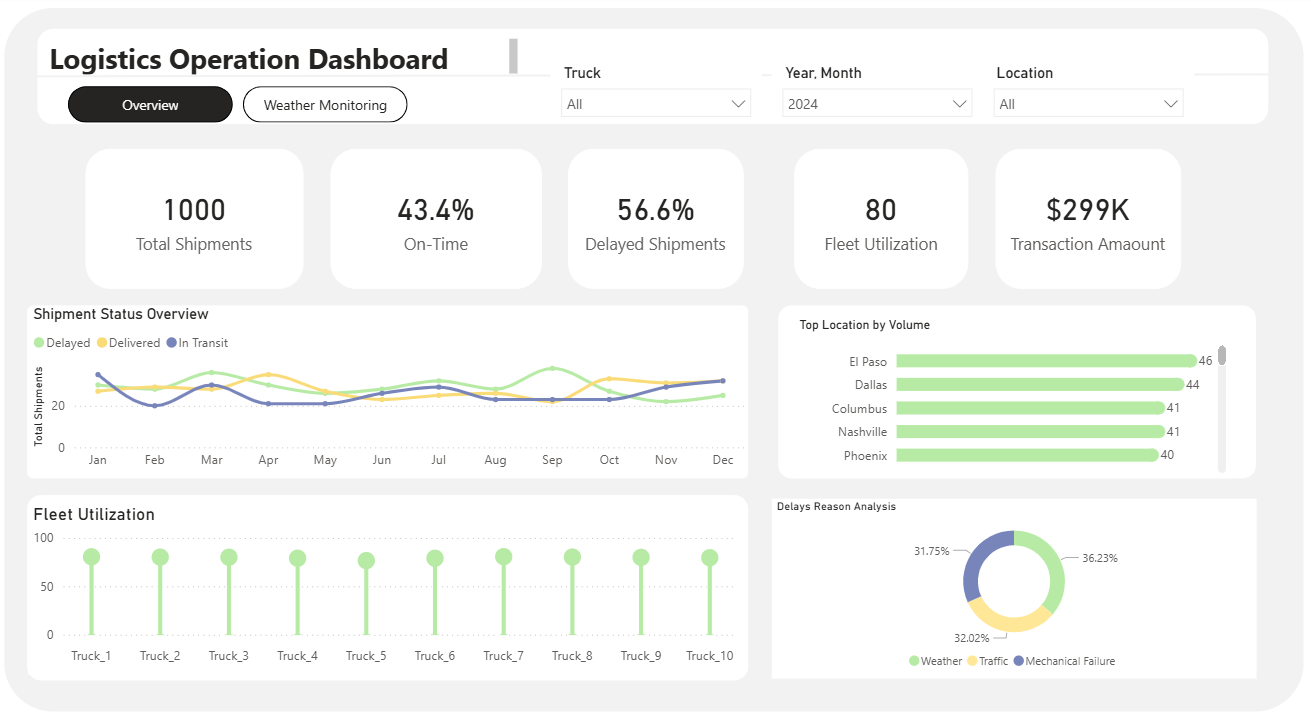

Layout of this report page (visuals, bound fields, positions):
{"tool":"powerbi","page":{"name":"Overview","canvas":[1280,720],"ordinal":0},"visuals":[{"type":"card","fields":{"Values":["_Measures.On-Time%"]},"box":[325.8,147.8,204.3,135.2],"z":0},{"type":"card","fields":{"Values":["_Measures.Total Shipments"]},"box":[89.5,147.8,210.1,135.2],"z":1000},{"type":"card","fields":{"Values":["_Measures.Delayed%"]},"box":[555.4,147.8,169.2,135.2],"z":2000},{"type":"card","fields":{"Values":["_Measures.Avg Utilization"]},"box":[773.3,147.8,168.3,135.2],"z":3000},{"type":"card","fields":{"Values":["_Measures.Transaction Amaount"]},"box":[967.8,147.8,179,135.2],"z":4000},{"type":"slicer","fields":{"Values":["LogisticsData.City"]},"box":[955,62.1,203.9,62.1],"z":5000},{"type":"slicer","fields":{"Values":["LogisticsData.Asset_ID"]},"box":[538.2,62.1,203.9,62.1],"z":6000},{"type":"slicer","fields":{"Values":["Date.Year","Date.Month"]},"box":[751,62.1,203.9,62.1],"z":7000},{"type":"lineChart","title":" Shipment Status Overview ","fields":{"Category":["Date.Month"],"Y":["_Measures.Total Shipments"],"Series":["LogisticsData.ShipmentStatus"]},"box":[33.7,298.8,697.8,167.6],"z":8000},{"type":"lineChart","title":"Fleet Utilization","fields":{"Category":["LogisticsData.Asset_ID"],"Y":["_Measures.Avg Utilization"]},"box":[33.7,491.2,690.7,164.9],"z":9000},{"type":"clusteredBarChart","title":"Top Location by Volume","fields":{"Category":["LogisticsData.City"],"Y":["_Measures.Total Shipments"]},"box":[773.2,311.2,422.1,155.2],"z":10000},{"type":"donutChart","title":"Delays Reason Analysis","fields":{"Category":["LogisticsData.LogisticsDelayReason"],"Y":["_Measures.Total Shipments"]},"box":[751,486.8,468.2,173.8],"z":11000},{"type":"textbox","box":[49.7,37.2,462,44.3],"z":12000},{"type":"pageNavigator","box":[71.8,88.7,329.9,35.5],"z":12001}]}

Visuals, with their boxes on the page's 1280x720 design canvas (x1, y1, x2, y2). These are canvas units, not pixel positions in the 1311x712 screenshot, which may show the page scaled, cropped or inside an application window:
card - _Measures.On-Time%: 326/148/530/283
card - _Measures.Total Shipments: 90/148/300/283
card - _Measures.Delayed%: 555/148/725/283
card - _Measures.Avg Utilization: 773/148/942/283
card - _Measures.Transaction Amaount: 968/148/1147/283
slicer - LogisticsData.City: 955/62/1159/124
slicer - LogisticsData.Asset_ID: 538/62/742/124
slicer - Date.Year x Date.Month: 751/62/955/124
" Shipment Status Overview " lineChart: 34/299/732/466
"Fleet Utilization" lineChart: 34/491/724/656
"Top Location by Volume" clusteredBarChart: 773/311/1195/466
"Delays Reason Analysis" donutChart: 751/487/1219/661
textbox: 50/37/512/82
pageNavigator: 72/89/402/124
